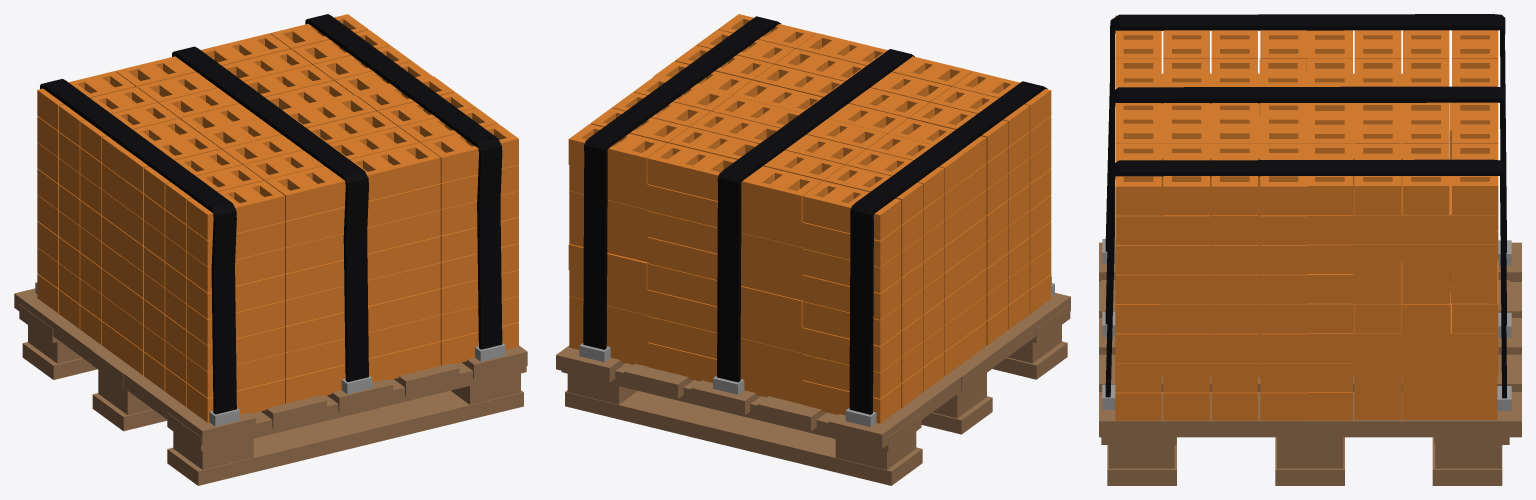
The picture shows the model from 3 angles, left to right: view 1: azimuth 30°, elevation 25°; view 2: azimuth 150°, elevation 25°; view 3: azimuth 270°, elevation 25°; orthographic projection. The views are drawn at different scales.
Parts seen in each view (by area): view 1: Куб.289; view 2: Куб.289; view 3: Куб.289.
Boxes of the visible parts, <box> form: Куб.289: <box>14,14,527,485</box>; Куб.289: <box>556,14,1070,485</box>; Куб.289: <box>1099,14,1521,485</box>.
Size of the model in its own units: 347 by 275 by 347.
